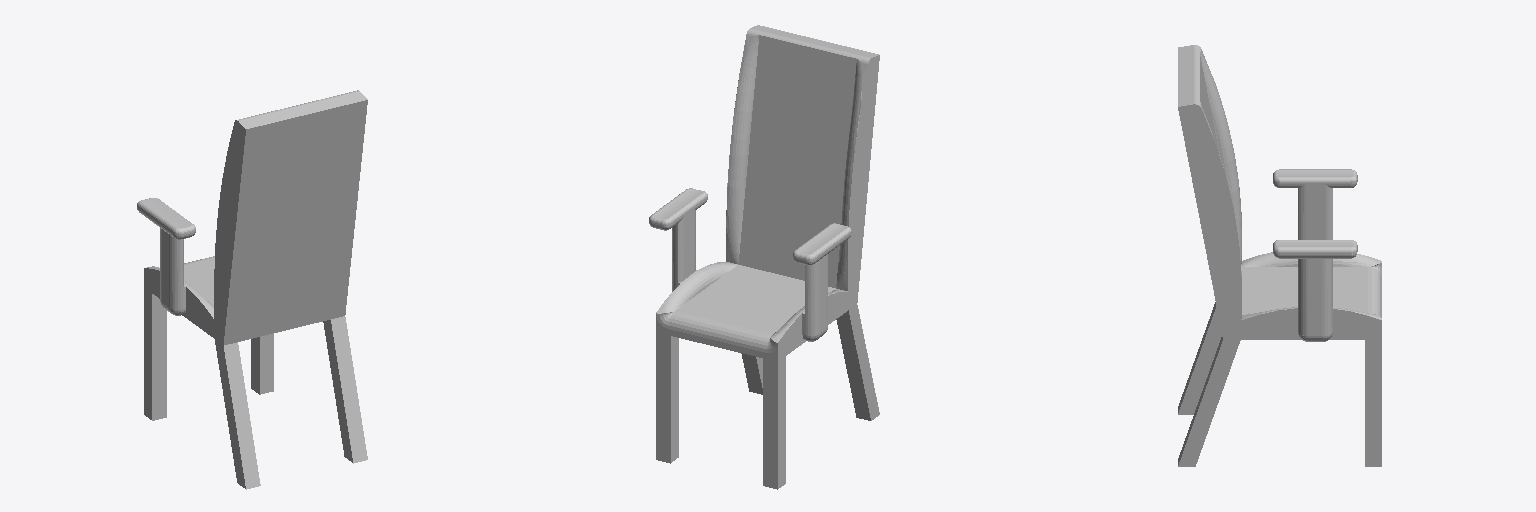
The model's file is chair.obj.
The picture shows the model from 3 angles: view 1: azimuth 30°, elevation 25°; view 2: azimuth 150°, elevation 25°; view 3: azimuth 270°, elevation 25°; orthographic projection.
Parts seen in each view (by area): view 1: Body2; view 2: Body2; view 3: Body2.
Part boxes in pixels (x1,y1,x2,y2): Body2: (137, 90, 367, 489); Body2: (649, 25, 879, 489); Body2: (1178, 45, 1381, 466).
Bounding box in the file's own units: 680 × 1422 × 726.